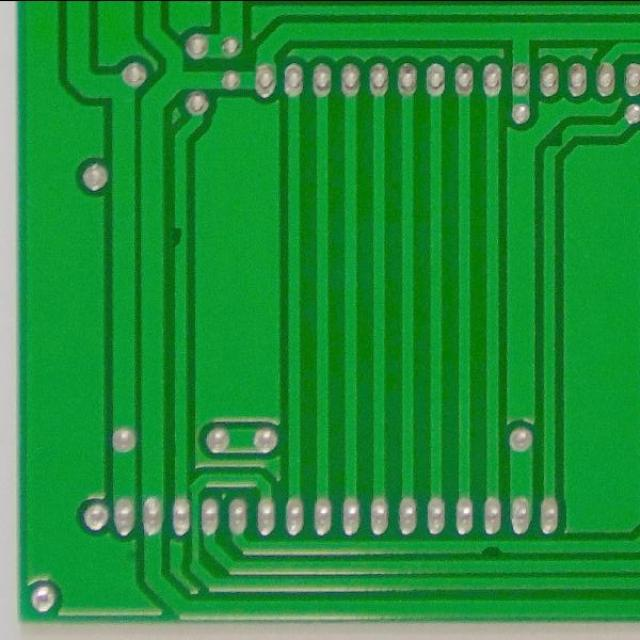MouseBite: (543, 126, 575, 156), (167, 220, 192, 253), (474, 538, 508, 559)
